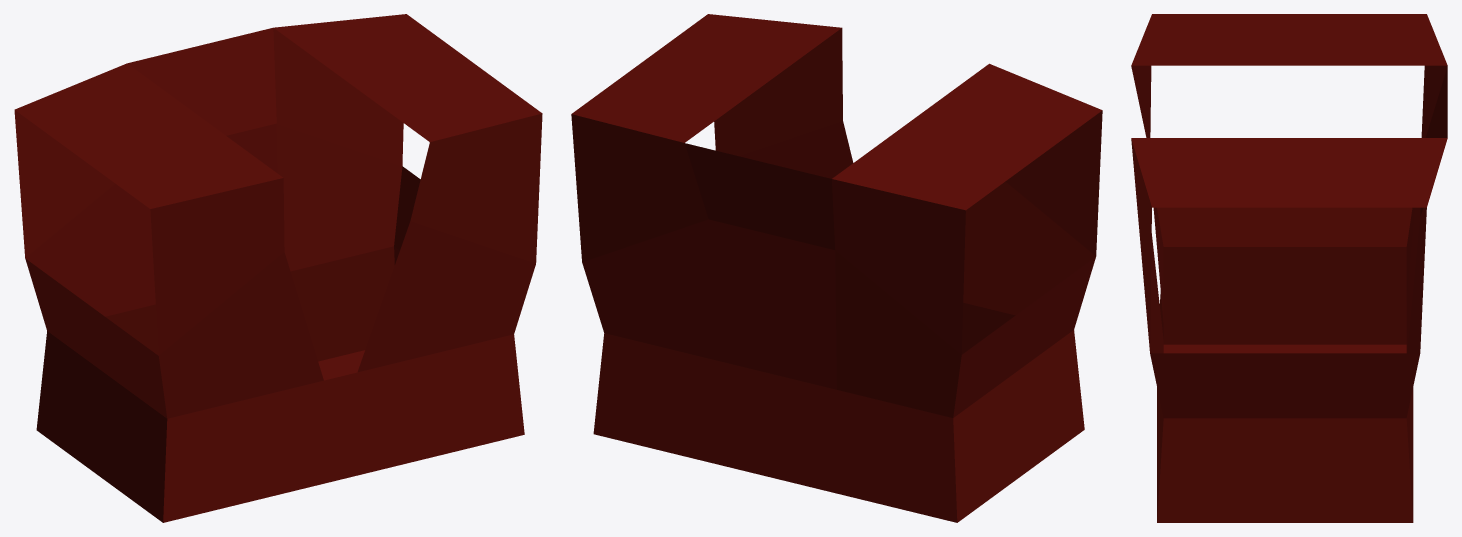
Rendered from leather_armor.obj.
3 renders of one model, left to right at view 1: azimuth 30°, elevation 25°; view 2: azimuth 150°, elevation 25°; view 3: azimuth 270°, elevation 25°, orthographic.
Visible parts, largest first — view 1: armor_leather; view 2: armor_leather; view 3: armor_leather.
Boxes of the visible parts, x1,y1,x2,y2 form: armor_leather: [14, 14, 542, 522]; armor_leather: [571, 14, 1102, 522]; armor_leather: [1131, 14, 1447, 522].
Size of the model in its own units: 0.2036 by 0.1628 by 0.1408.
